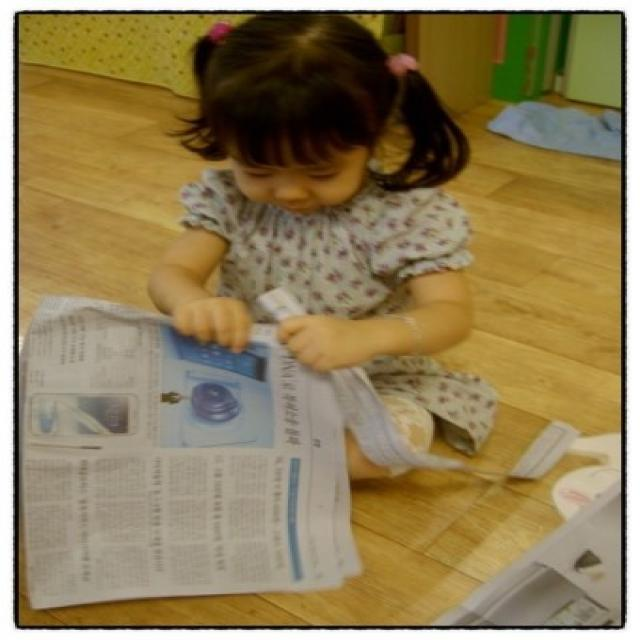Newspaper: (24, 294, 355, 608)
